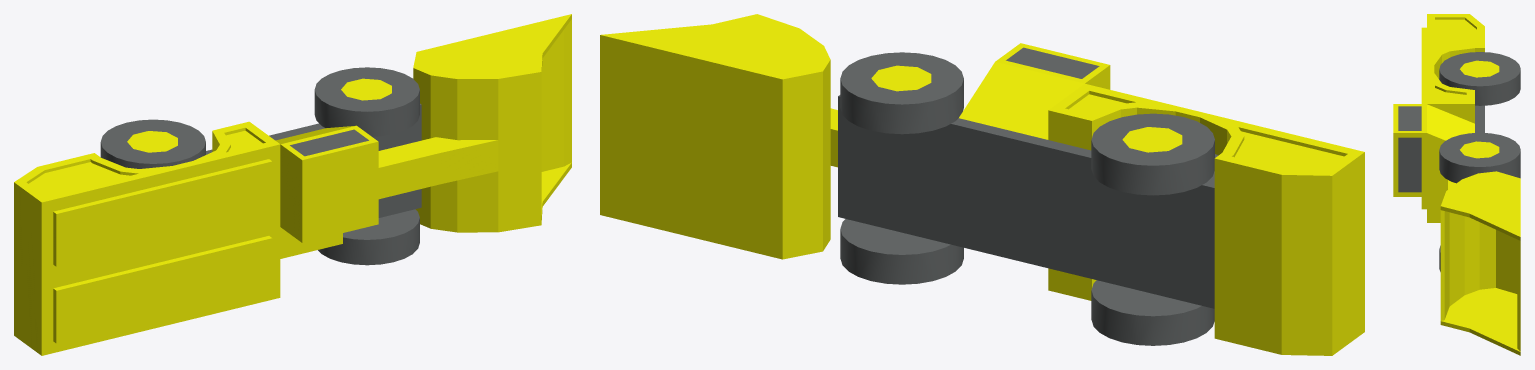
Rendered from lhd_vehicle.dae.
3 renders of one model, left to right at view 1: azimuth 30°, elevation 25°; view 2: azimuth 150°, elevation 25°; view 3: azimuth 270°, elevation 25°, orthographic. The views are drawn at different scales.
Visible parts, largest first — view 1: coords_ME_ID24_MA_material_0, coords_ME_ID127_MA_material_0, coords_ME_ID84_MA_material_0, coords_ME_ID70_MA_material_0, coords_ME_ID4_MA_material, coords_ME_ID12_MA_material, coords_ME_ID18_MA_material, coords_ME_ID102_MA_material_0, coords_ME_ID32_MA_material_1, coords_ME_ID90_MA_material_2, coords_ME_ID40_MA_material_0, coords_ME_ID46_MA_material_0 (+1 smaller); view 2: coords_ME_ID127_MA_material_0, coords_ME_ID32_MA_material_1, coords_ME_ID24_MA_material_0, coords_ME_ID4_MA_material, coords_ME_ID18_MA_material, coords_ME_ID64_MA_material, coords_ME_ID12_MA_material, coords_ME_ID102_MA_material_0, coords_ME_ID90_MA_material_2, coords_ME_ID40_MA_material_0, coords_ME_ID46_MA_material_0, coords_ME_ID108_MA_material_0; view 3: coords_ME_ID127_MA_material_0, coords_ME_ID24_MA_material_0, coords_ME_ID18_MA_material, coords_ME_ID4_MA_material, coords_ME_ID96_MA_material_2, coords_ME_ID102_MA_material_0, coords_ME_ID90_MA_material_2, coords_ME_ID40_MA_material_0, coords_ME_ID46_MA_material_0, coords_ME_ID84_MA_material_0, coords_ME_ID108_MA_material_0, coords_ME_ID32_MA_material_1.
Part boxes in pixels (bbox=[...]): coords_ME_ID24_MA_material_0: bbox=[14, 121, 498, 355]; coords_ME_ID127_MA_material_0: bbox=[413, 14, 571, 232]; coords_ME_ID84_MA_material_0: bbox=[53, 159, 272, 266]; coords_ME_ID70_MA_material_0: bbox=[53, 236, 272, 343]; coords_ME_ID4_MA_material: bbox=[314, 67, 421, 136]; coords_ME_ID12_MA_material: bbox=[318, 209, 419, 265]; coords_ME_ID18_MA_material: bbox=[100, 119, 205, 168]; coords_ME_ID102_MA_material_0: bbox=[26, 159, 138, 196]; coords_ME_ID32_MA_material_1: bbox=[206, 105, 421, 217]; coords_ME_ID90_MA_material_2: bbox=[290, 129, 368, 156]; coords_ME_ID40_MA_material_0: bbox=[341, 78, 391, 100]; coords_ME_ID46_MA_material_0: bbox=[127, 131, 177, 152]; coords_ME_ID127_MA_material_0: bbox=[600, 14, 830, 259]; coords_ME_ID32_MA_material_1: bbox=[838, 96, 1218, 308]; coords_ME_ID24_MA_material_0: bbox=[830, 43, 1364, 355]; coords_ME_ID4_MA_material: bbox=[838, 52, 963, 134]; coords_ME_ID18_MA_material: bbox=[1091, 113, 1214, 195]; coords_ME_ID64_MA_material: bbox=[1091, 280, 1214, 345]; coords_ME_ID12_MA_material: bbox=[840, 219, 963, 284]; coords_ME_ID102_MA_material_0: bbox=[1232, 127, 1347, 170]; coords_ME_ID90_MA_material_2: bbox=[1006, 47, 1099, 78]; coords_ME_ID40_MA_material_0: bbox=[871, 65, 931, 91]; coords_ME_ID46_MA_material_0: bbox=[1122, 127, 1182, 152]; coords_ME_ID108_MA_material_0: bbox=[1065, 91, 1135, 114]; coords_ME_ID127_MA_material_0: bbox=[1440, 171, 1520, 355]; coords_ME_ID24_MA_material_0: bbox=[1393, 14, 1484, 222]; coords_ME_ID18_MA_material: bbox=[1439, 52, 1520, 105]; coords_ME_ID4_MA_material: bbox=[1439, 132, 1520, 183]; coords_ME_ID96_MA_material_2: bbox=[1398, 137, 1421, 192]; coords_ME_ID102_MA_material_0: bbox=[1435, 17, 1476, 52]; coords_ME_ID90_MA_material_2: bbox=[1398, 106, 1421, 130]; coords_ME_ID40_MA_material_0: bbox=[1460, 141, 1499, 158]; coords_ME_ID46_MA_material_0: bbox=[1460, 60, 1499, 77]; coords_ME_ID84_MA_material_0: bbox=[1421, 27, 1426, 103]; coords_ME_ID108_MA_material_0: bbox=[1435, 85, 1466, 100]; coords_ME_ID32_MA_material_1: bbox=[1439, 78, 1484, 132].
Bounding box in the file's own units: 104 × 25.74 × 25.06.
